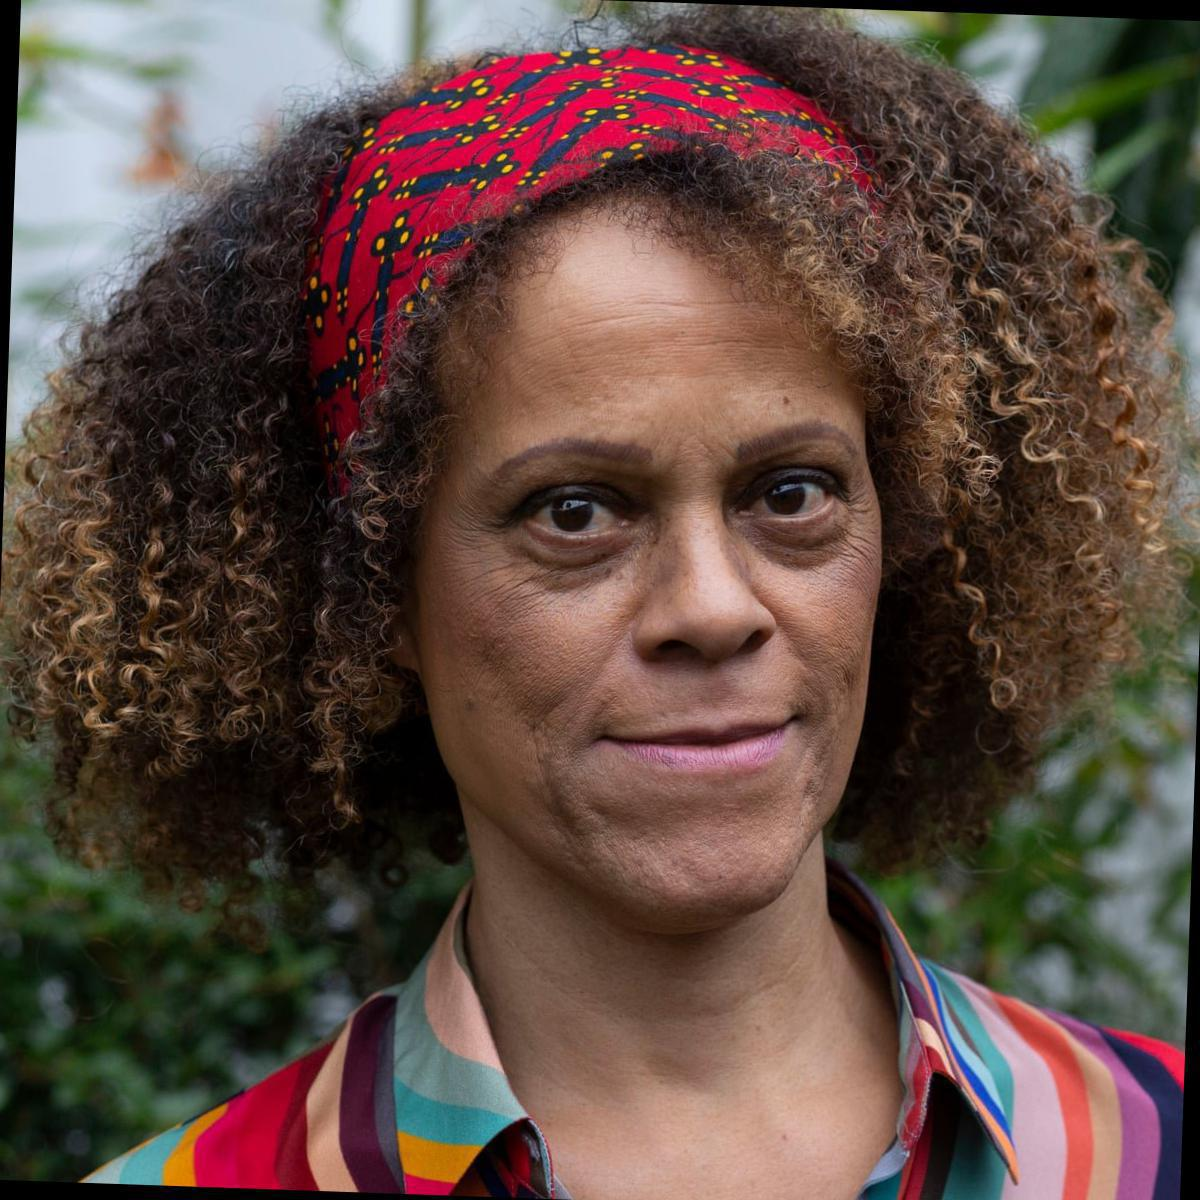Sober: (436, 268, 865, 892)
